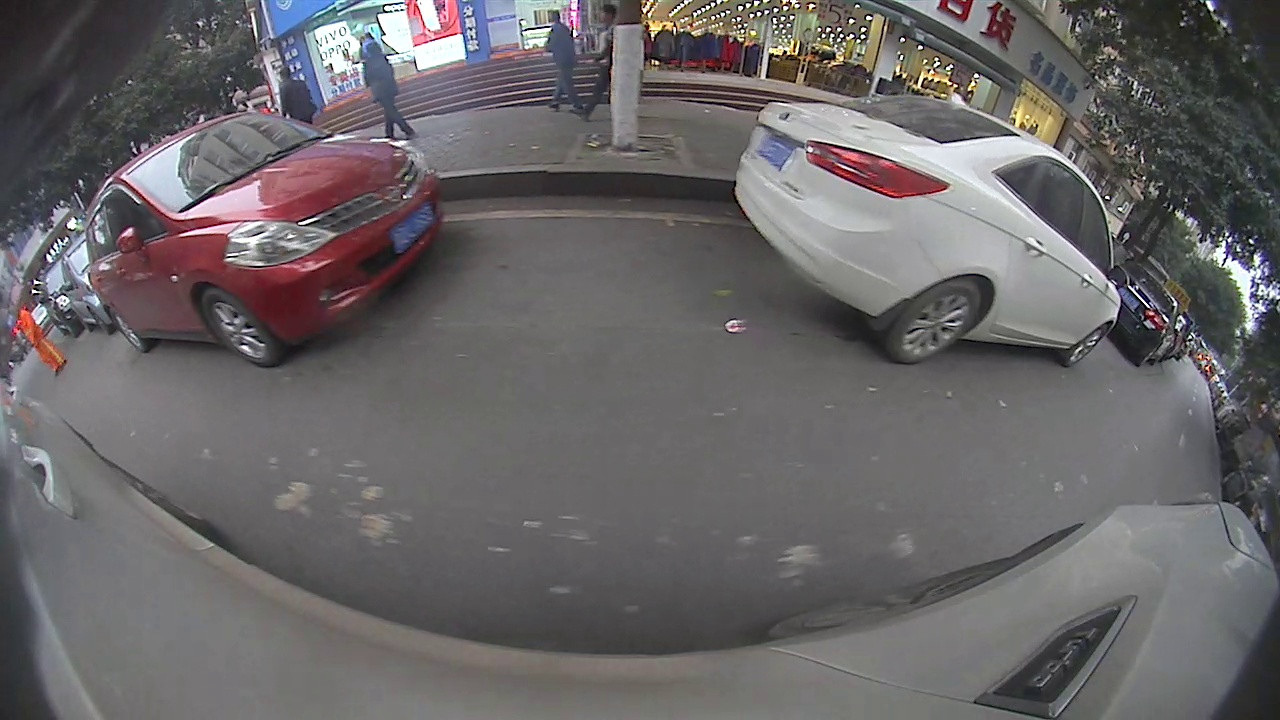car: (733, 89, 1130, 367), (83, 110, 446, 369), (1110, 257, 1180, 370)
front: (193, 286, 280, 371), (1061, 323, 1108, 368)
person: (10, 305, 70, 378), (363, 42, 394, 140), (547, 9, 572, 111), (277, 65, 307, 123), (600, 3, 615, 117)
rear: (885, 280, 990, 367), (108, 308, 145, 353)
